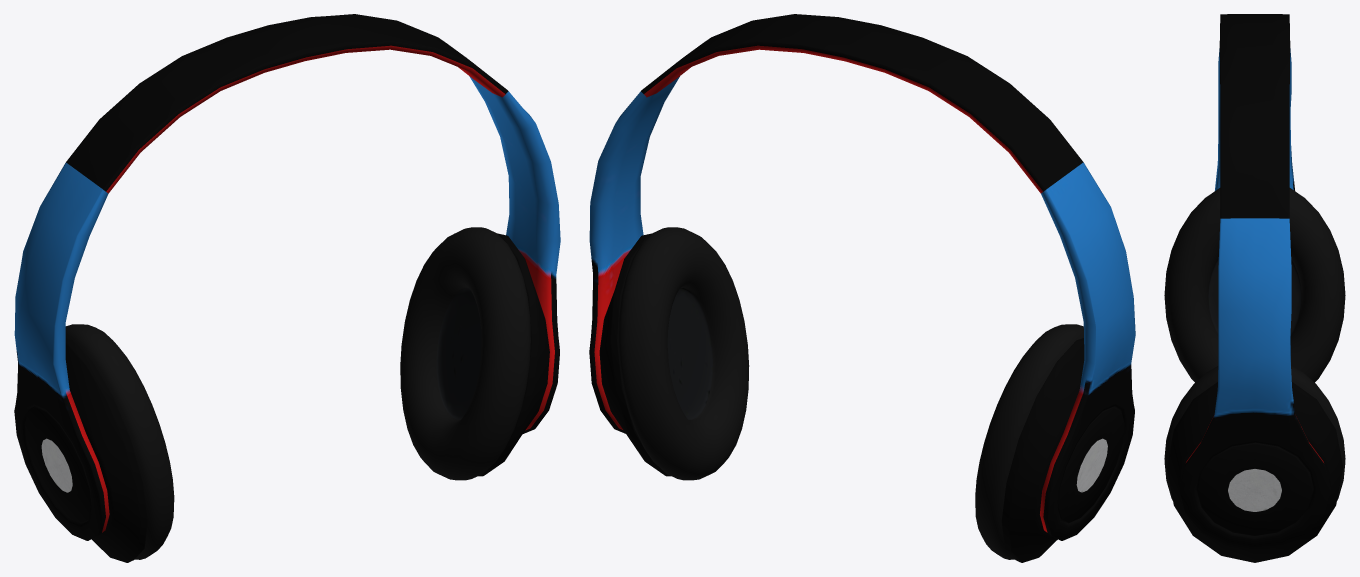
3 views of the same model, side by side, from view 1: azimuth 30°, elevation 25°; view 2: azimuth 150°, elevation 25°; view 3: azimuth 270°, elevation 25° (orthographic). The views are drawn at different scales.
Visible parts, largest first — view 1: earphoneslow; view 2: earphoneslow; view 3: earphoneslow.
Part boxes in pixels (x1,y1,x2,y2): earphoneslow: [14, 14, 560, 562]; earphoneslow: [589, 14, 1135, 562]; earphoneslow: [1164, 14, 1345, 562].
Bounding box in the file's own units: 60.67 × 53.59 × 20.12.
